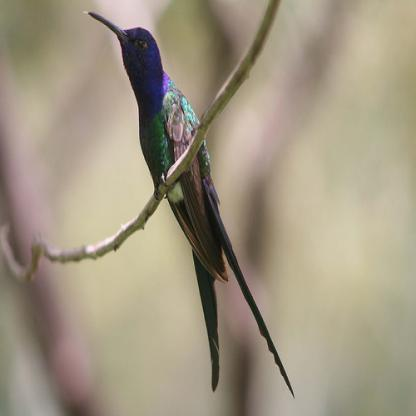bird: (82, 7, 296, 400)
